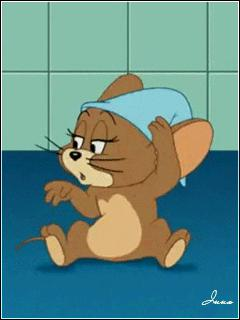jerry: (16, 74, 215, 269)
